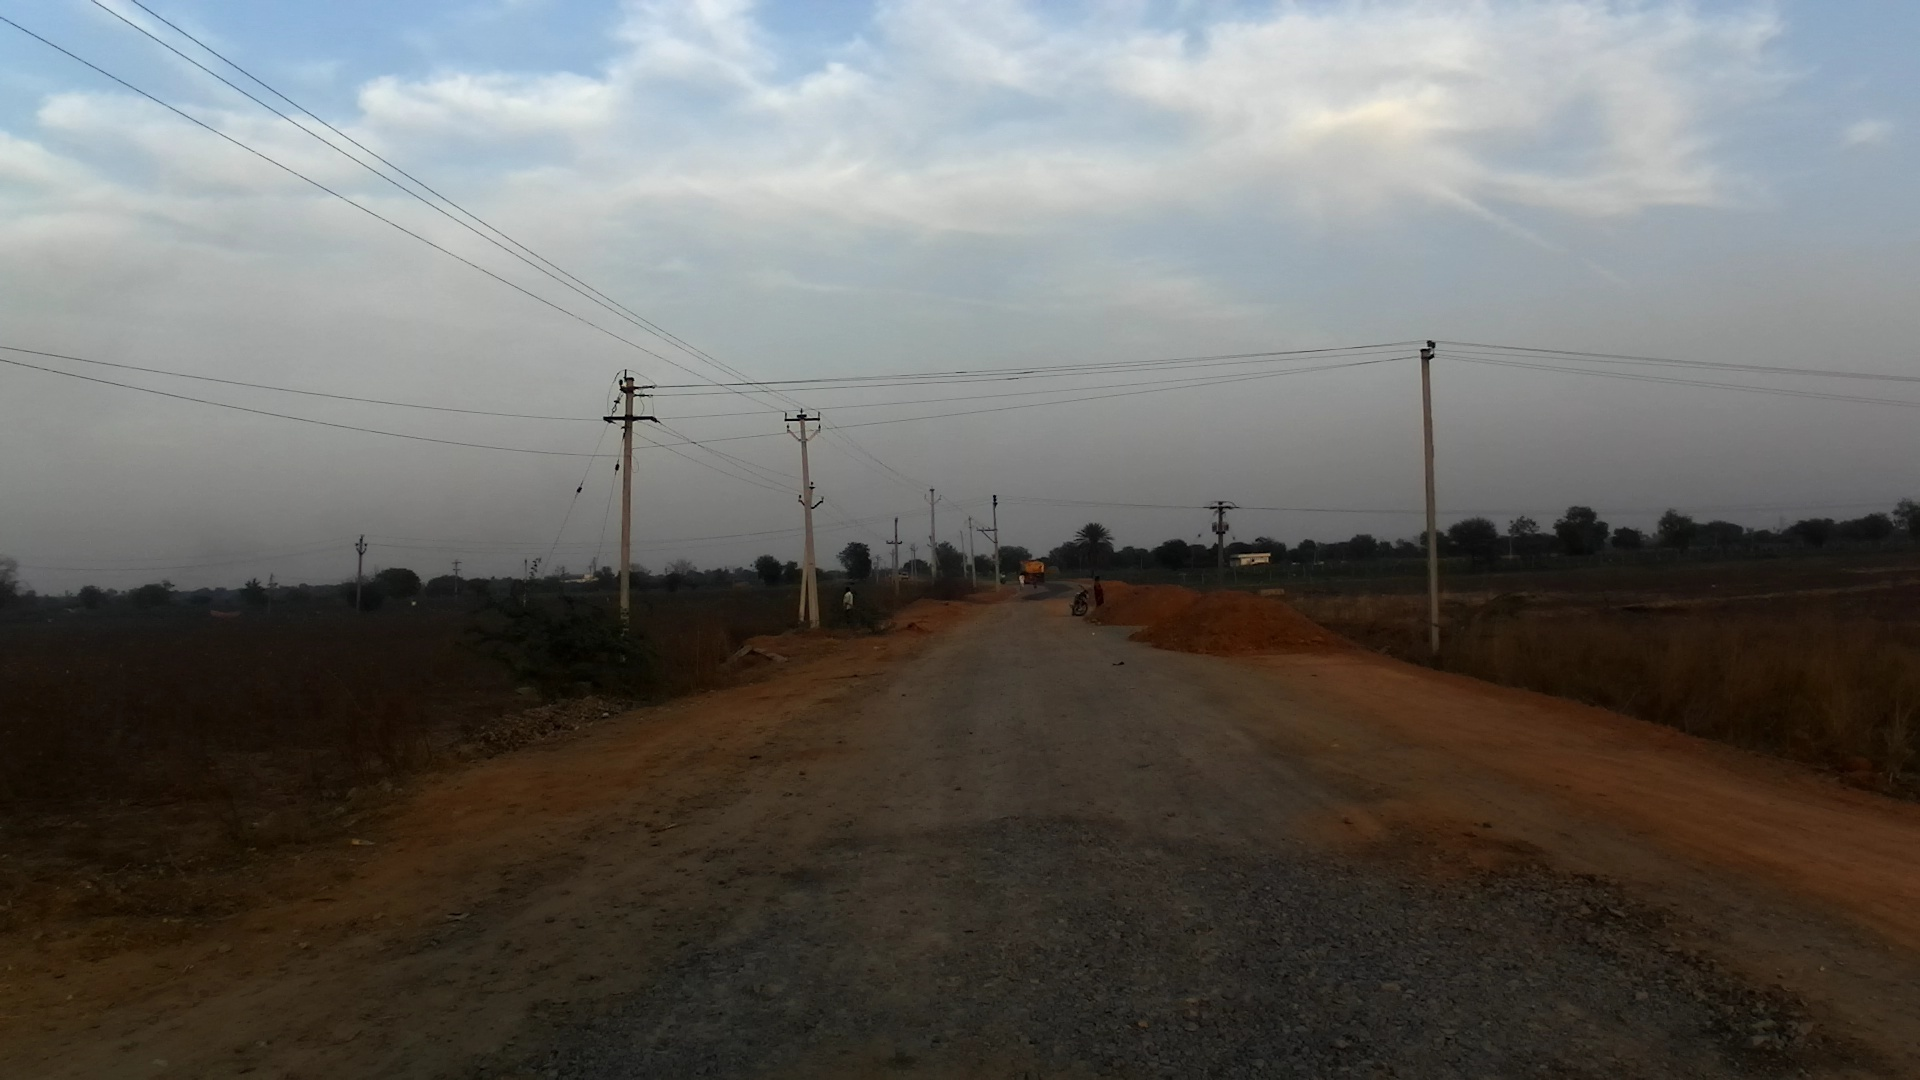bicycle: (1070, 587, 1090, 624)
person: (834, 583, 856, 622), (1090, 575, 1107, 612), (1016, 569, 1028, 590), (1031, 572, 1041, 589)
truck: (1018, 562, 1046, 587)
